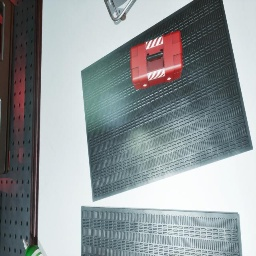0: (22, 238, 43, 256)
FirstAidBox ,: (130, 30, 183, 90)
